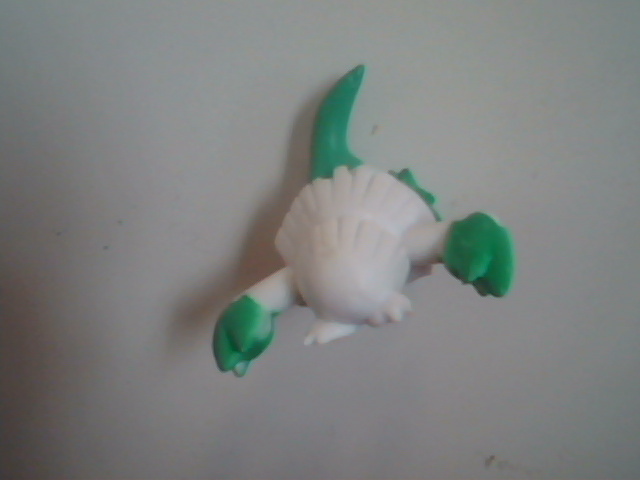abomasnow: (192, 48, 561, 386)
